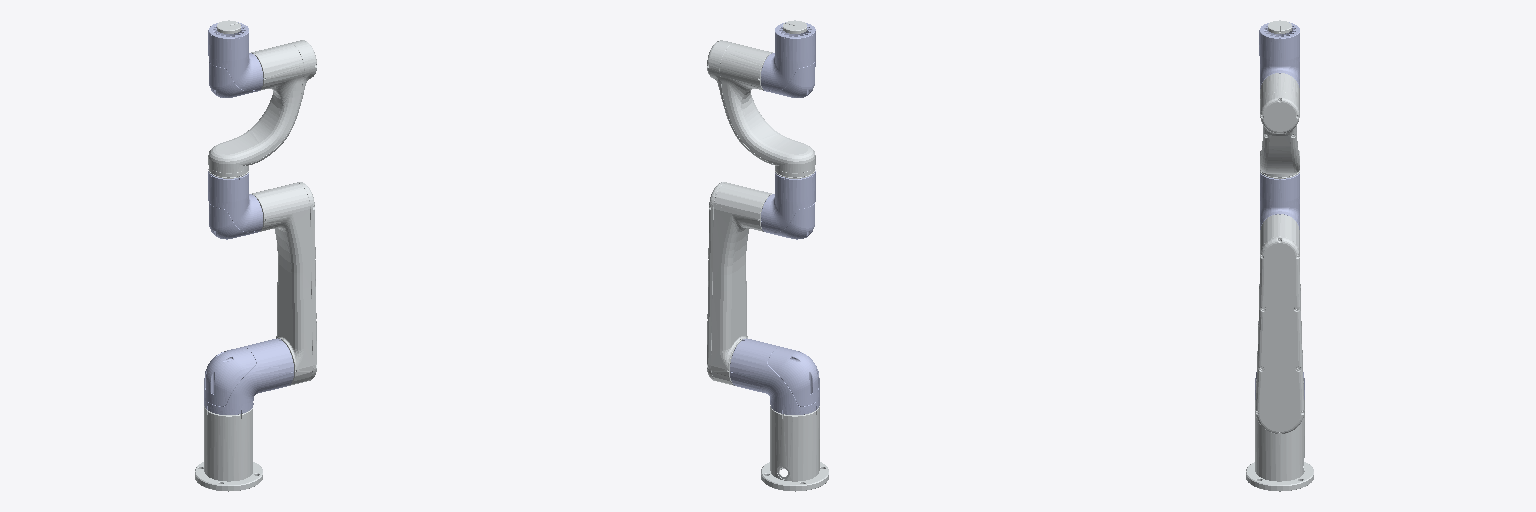
URDF robot description (arm1):
<?xml version="1.0" encoding="utf-8"?>
<!-- This URDF was automatically created by SolidWorks to URDF Exporter! Originally created by [author] ([email redacted]) 
     Commit Version: 1.6.0-1-g15f4949  Build Version: 1.6.7594.29634
     For more information, please see http://wiki.ros.org/sw_urdf_exporter -->
<robot
  name="arm1">
  <link
    name="base_link">
    <inertial>
      <origin
        xyz="-1.2717E-09 -0.0002019 0.03962"
        rpy="0 0 0" />
      <mass
        value="0.20694" />
      <inertia
        ixx="0.00032183"
        ixy="-5.3729E-08"
        ixz="-8.9527E-11"
        iyy="0.00032289"
        iyz="-7.6451E-07"
        izz="0.00019377" />
    </inertial>
    <visual>
      <origin
        xyz="0 0 0"
        rpy="0 0 0" />
      <geometry>
        <mesh
          filename="package://ti5_description/meshes/arm1/base_link.STL" />
      </geometry>
      <material
        name="">
        <color
          rgba="0.89804 0.91765 0.92941 1" />
      </material>
    </visual>
    <collision>
      <origin
        xyz="0 0 0"
        rpy="0 0 0" />
      <geometry>
        <mesh
          filename="package://ti5_description/meshes/arm1/base_link.STL" />
      </geometry>
    </collision>
  </link>
  <link
    name="A_Link">
    <inertial>
      <origin
        xyz="0.029013 3.1585E-06 0.030656"
        rpy="0 0 0" />
      <mass
        value="0.17006" />
      <inertia
        ixx="0.00014682"
        ixy="7.8151E-09"
        ixz="-5.421E-05"
        iyy="0.00020934"
        iyz="-1.9182E-08"
        izz="0.00020415" />
    </inertial>
    <visual>
      <origin
        xyz="0 0 0"
        rpy="0 0 0" />
      <geometry>
        <mesh
          filename="package://ti5_description/meshes/arm1/A_Link.STL" />
      </geometry>
      <material
        name="">
        <color
          rgba="0.79216 0.81961 0.93333 1" />
      </material>
    </visual>
    <collision>
      <origin
        xyz="0 0 0"
        rpy="0 0 0" />
      <geometry>
        <mesh
          filename="package://ti5_description/meshes/arm1/A_Link.STL" />
      </geometry>
    </collision>
  </link>
  <joint
    name="A"
    type="revolute">
    <origin
      xyz="-0.00018059 0 0.097"
      rpy="0 0 0" />
    <parent
      link="base_link" />
    <child
      link="A_Link" />
    <axis
      xyz="0 0 -1" />
    <limit
      lower="-3.14"
      upper="3.14"
      effort="0"
      velocity="0" />
  </joint>
  <link
    name="B_Link">
    <inertial>
      <origin
        xyz="1.7474E-06 0.11028 0.0067642"
        rpy="0 0 0" />
      <mass
        value="0.25215" />
      <inertia
        ixx="0.0018313"
        ixy="-9.1439E-09"
        ixz="-1.1859E-09"
        iyy="0.00014331"
        iyz="0.00013472"
        izz="0.0018654" />
    </inertial>
    <visual>
      <origin
        xyz="0 0 0"
        rpy="0 0 0" />
      <geometry>
        <mesh
          filename="package://ti5_description/meshes/arm1/B_Link.STL" />
      </geometry>
      <material
        name="">
        <color
          rgba="0.89804 0.91765 0.92941 1" />
      </material>
    </visual>
    <collision>
      <origin
        xyz="0 0 0"
        rpy="0 0 0" />
      <geometry>
        <mesh
          filename="package://ti5_description/meshes/arm1/B_Link.STL" />
      </geometry>
    </collision>
  </link>
  <joint
    name="B"
    type="revolute">
    <origin
      xyz="0.076181 0 0.039711"
      rpy="1.5708 0 1.5708" />
    <parent
      link="A_Link" />
    <child
      link="B_Link" />
    <axis
      xyz="0 0 -1" />
    <limit
      lower="-1.9"
      upper="1.9"
      effort="0"
      velocity="0" />
  </joint>
  <link
    name="C_Link">
    <inertial>
      <origin
        xyz="-4.9653E-06 -0.026863 0.027126"
        rpy="0 0 0" />
      <mass
        value="0.1028" />
      <inertia
        ixx="9.5672E-05"
        ixy="4.2051E-09"
        ixz="2.2694E-08"
        iyy="6.2054E-05"
        iyz="2.6805E-05"
        izz="8.7384E-05" />
    </inertial>
    <visual>
      <origin
        xyz="0 0 0"
        rpy="0 0 0" />
      <geometry>
        <mesh
          filename="package://ti5_description/meshes/arm1/C_Link.STL" />
      </geometry>
      <material
        name="">
        <color
          rgba="0.79216 0.81961 0.93333 1" />
      </material>
    </visual>
    <collision>
      <origin
        xyz="0 0 0"
        rpy="0 0 0" />
      <geometry>
        <mesh
          filename="package://ti5_description/meshes/arm1/C_Link.STL" />
      </geometry>
    </collision>
  </link>
  <joint
    name="C"
    type="revolute">
    <origin
      xyz="0 0.21038 -0.041"
      rpy="-3.1416 0 0" />
    <parent
      link="B_Link" />
    <child
      link="C_Link" />
    <axis
      xyz="0 0 -1" />
    <limit
      lower="-2.86"
      upper="2.86"
      effort="0"
      velocity="0" />
  </joint>
  <link
    name="D_Link">
    <inertial>
      <origin
        xyz="0.043748 -1.4463E-06 0.059027"
        rpy="0 0 0" />
      <mass
        value="0.24635" />
      <inertia
        ixx="0.00049775"
        ixy="6.0303E-09"
        ixz="-0.0002222"
        iyy="0.00066058"
        iyz="-1.5951E-08"
        izz="0.00028236" />
    </inertial>
    <visual>
      <origin
        xyz="0 0 0"
        rpy="0 0 0" />
      <geometry>
        <mesh
          filename="package://ti5_description/meshes/arm1/D_Link.STL" />
      </geometry>
      <material
        name="">
        <color
          rgba="0.89804 0.91765 0.92941 1" />
      </material>
    </visual>
    <collision>
      <origin
        xyz="0 0 0"
        rpy="0 0 0" />
      <geometry>
        <mesh
          filename="package://ti5_description/meshes/arm1/D_Link.STL" />
      </geometry>
    </collision>
  </link>
  <joint
    name="D"
    type="revolute">
    <origin
      xyz="0 -0.065909 0.035"
      rpy="1.5708 1.5708 0" />
    <parent
      link="C_Link" />
    <child
      link="D_Link" />
    <axis
      xyz="0 0 1" />
    <limit
      lower="-3.14"
      upper="3.14"
      effort="0"
      velocity="0" />
  </joint>
  <link
    name="E_Link">
    <inertial>
      <origin
        xyz="-0.026863 4.965E-06 0.027126"
        rpy="0 0 0" />
      <mass
        value="0.1028" />
      <inertia
        ixx="6.2054E-05"
        ixy="-4.2051E-09"
        ixz="2.6805E-05"
        iyy="9.5672E-05"
        iyz="-2.2694E-08"
        izz="8.7384E-05" />
    </inertial>
    <visual>
      <origin
        xyz="0 0 0"
        rpy="0 0 0" />
      <geometry>
        <mesh
          filename="package://ti5_description/meshes/arm1/E_Link.STL" />
      </geometry>
      <material
        name="">
        <color
          rgba="0.79216 0.81961 0.93333 1" />
      </material>
    </visual>
    <collision>
      <origin
        xyz="0 0 0"
        rpy="0 0 0" />
      <geometry>
        <mesh
          filename="package://ti5_description/meshes/arm1/E_Link.STL" />
      </geometry>
    </collision>
  </link>
  <joint
    name="E"
    type="revolute">
    <origin
      xyz="0.035 -9.0665E-05 0.124"
      rpy="-1.5708 1.5708 1.5708" />
    <parent
      link="D_Link" />
    <child
      link="E_Link" />
    <axis
      xyz="0 0 -1" />
    <limit
      lower="-2.9"
      upper="2.9"
      effort="0"
      velocity="0" />
  </joint>
  <link
    name="F_Link">
    <inertial>
      <origin
        xyz="-7.3069E-05 -6.524E-11 0.0024856"
        rpy="0 0 0" />
      <mass
        value="0.0093944" />
      <inertia
        ixx="5.4913E-07"
        ixy="7.475E-15"
        ixz="1.0861E-09"
        iyy="5.4216E-07"
        iyz="4.6867E-16"
        izz="1.0527E-06" />
    </inertial>
    <visual>
      <origin
        xyz="0 0 0"
        rpy="0 0 0" />
      <geometry>
        <mesh
          filename="package://ti5_description/meshes/arm1/F_Link.STL" />
      </geometry>
      <material
        name="">
        <color
          rgba="0.89804 0.91765 0.92941 1" />
      </material>
    </visual>
    <collision>
      <origin
        xyz="0 0 0"
        rpy="0 0 0" />
      <geometry>
        <mesh
          filename="package://ti5_description/meshes/arm1/F_Link.STL" />
      </geometry>
    </collision>
  </link>
  <joint
    name="F"
    type="revolute">
    <origin
      xyz="-0.065909 0 0.035"
      rpy="3.1416 1.5708 0" />
    <parent
      link="E_Link" />
    <child
      link="F_Link" />
    <axis
      xyz="0 0 1" />
    <limit
      lower="-3.14"
      upper="3.14"
      effort="0"
      velocity="0" />
  </joint>
</robot>

--- What the picture shows (computed from the rendered views, not written in the file) ---
The picture shows the robot from 3 angles, left to right: view 1: azimuth 30°, elevation 25°; view 2: azimuth 150°, elevation 25°; view 3: azimuth 270°, elevation 25°; orthographic projection.
Robot: arm1 — 7 links, 6 joints (6 revolute); root link base_link; default pose: all joints at 0.
Links seen in each view (by area): view 1: B_Link, D_Link, A_Link, base_link, E_Link, C_Link; view 2: B_Link, D_Link, A_Link, base_link, E_Link, C_Link; view 3: B_Link, D_Link, base_link, E_Link, C_Link.
Boxes of the visible links, left/top/right/bottom form: B_Link: left=252, top=182, right=316, bottom=385; D_Link: left=208, top=40, right=316, bottom=178; A_Link: left=204, top=338, right=293, bottom=414; base_link: left=195, top=406, right=262, bottom=491; E_Link: left=208, top=22, right=263, bottom=97; C_Link: left=208, top=171, right=262, bottom=239; B_Link: left=707, top=182, right=771, bottom=385; D_Link: left=707, top=40, right=815, bottom=178; A_Link: left=730, top=338, right=819, bottom=414; base_link: left=761, top=406, right=828, bottom=491; E_Link: left=761, top=22, right=815, bottom=97; C_Link: left=761, top=171, right=815, bottom=239; B_Link: left=1255, top=214, right=1304, bottom=433; D_Link: left=1260, top=73, right=1299, bottom=178; base_link: left=1246, top=413, right=1313, bottom=491; E_Link: left=1259, top=22, right=1299, bottom=88; C_Link: left=1260, top=173, right=1299, bottom=229.
Bounding box of the posed robot: 0.1538 × 0.084 × 0.6079 m (x, y, z).
7 mesh visuals loaded from 7 distinct referenced files (7 binary STL).